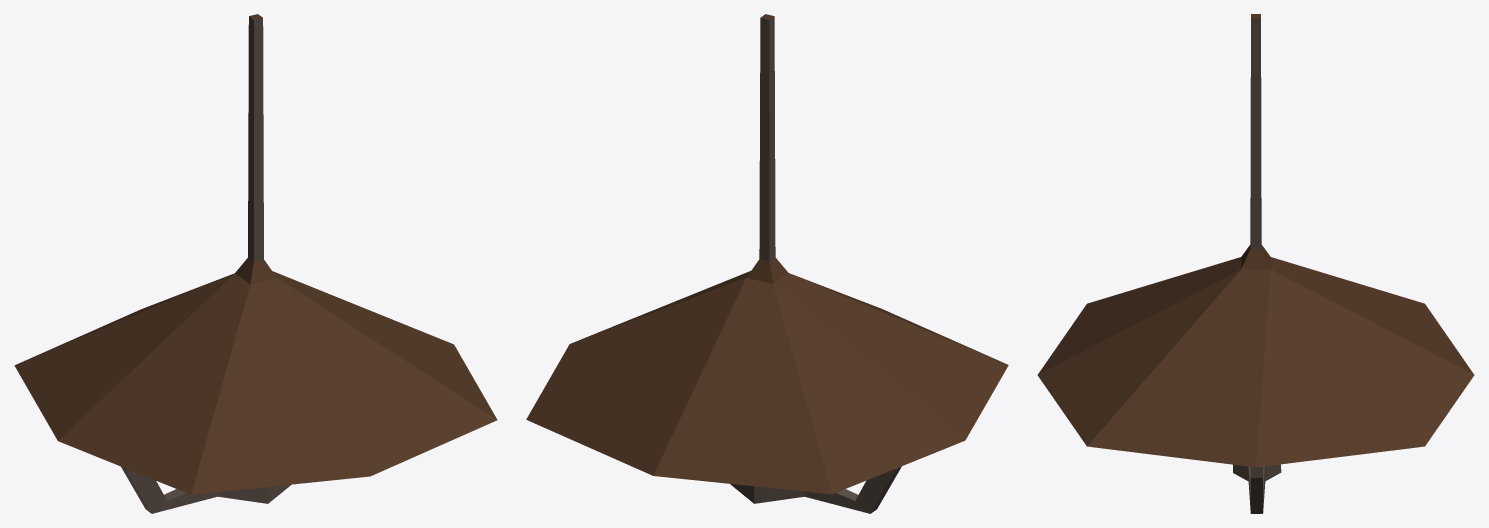
File: LightBulb.glb
3 renders of one model, left to right at view 1: azimuth 30°, elevation 25°; view 2: azimuth 150°, elevation 25°; view 3: azimuth 270°, elevation 25°, orthographic. The views are drawn at different scales.
Visible parts, largest first — view 1: LightBulb2; view 2: LightBulb2; view 3: LightBulb2.
Part boxes in pixels (x1,y1,x2,y2): LightBulb2: [14, 14, 497, 513]; LightBulb2: [526, 14, 1008, 513]; LightBulb2: [1037, 14, 1474, 513].
Size of the model in its own units: 1.21 by 1.39 by 1.21.
Materials: 2 (2 with a texture image).
